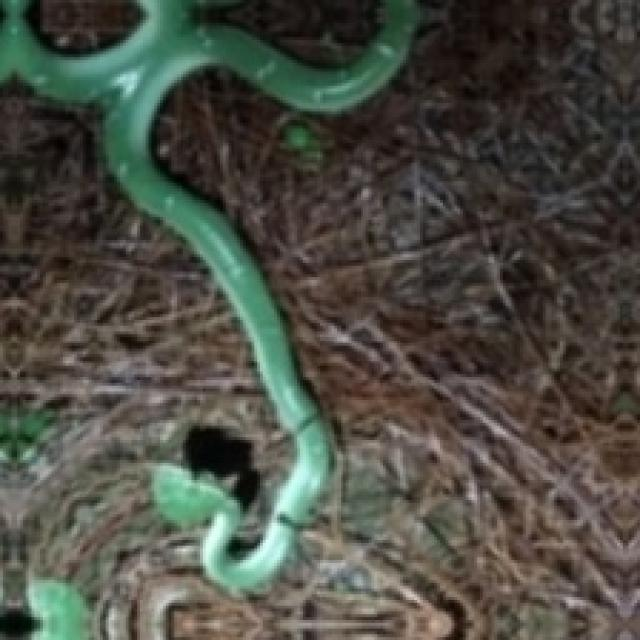north ph temple pitviper: (0, 0, 417, 591)
